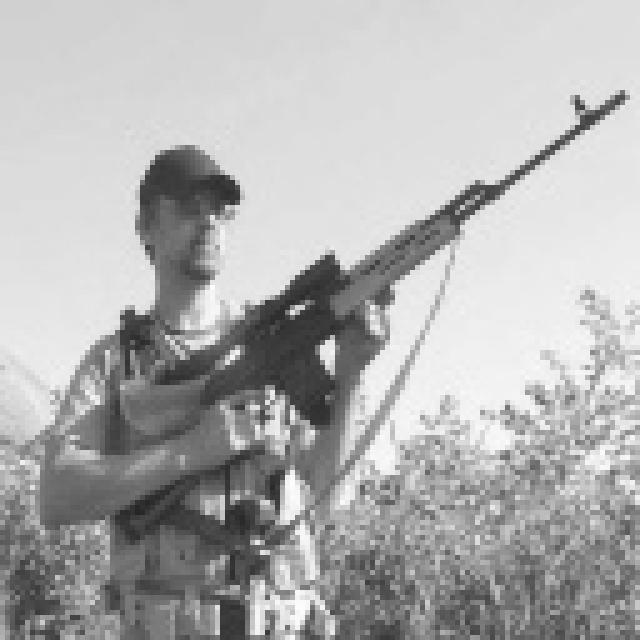Rifle: (103, 83, 640, 568)
